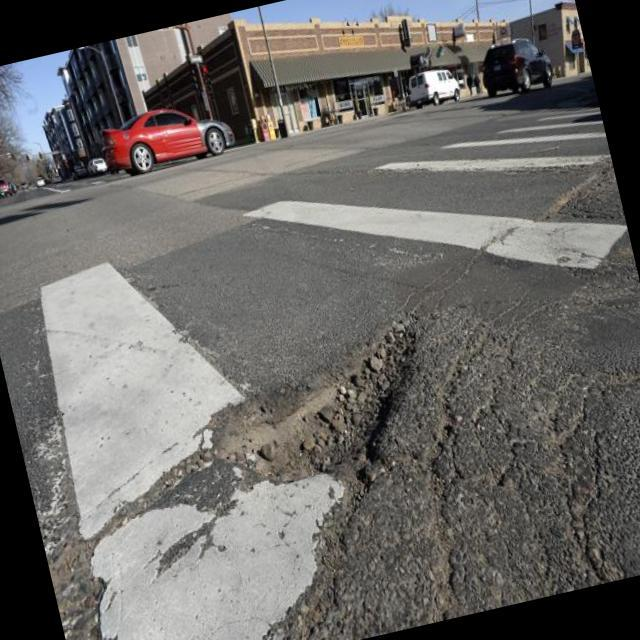Pothole: (212, 322, 439, 514)
